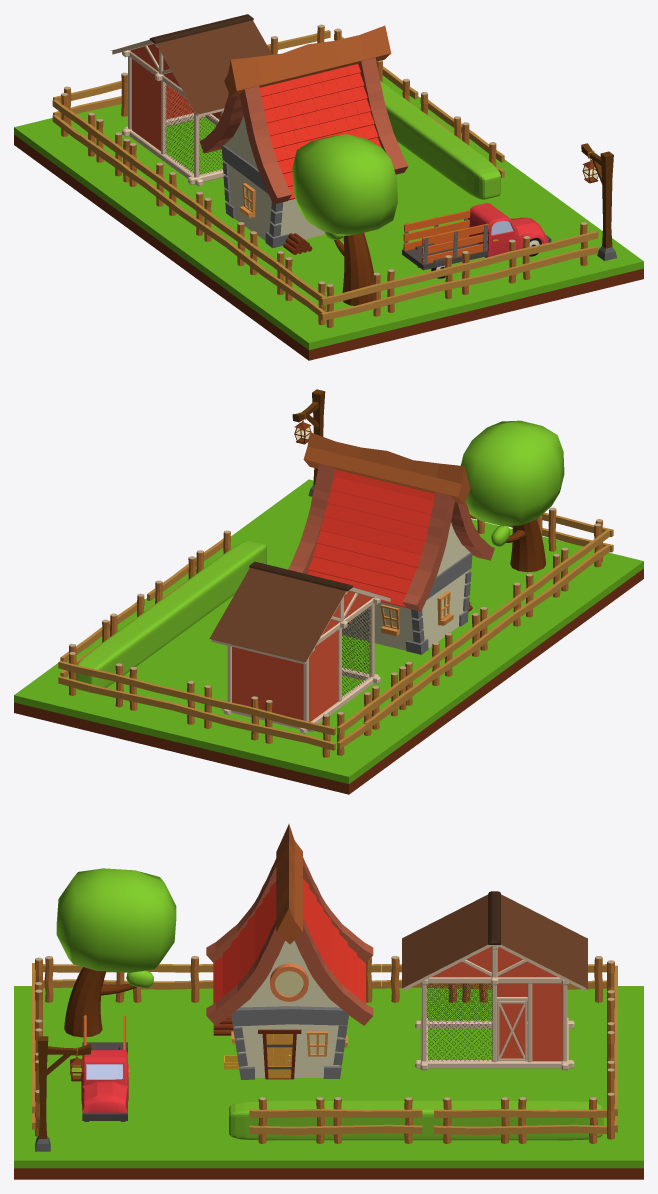
Rendered from ManowkHouse.fbx.
3 views of the same model, one above another, from view 1: azimuth 30°, elevation 25°; view 2: azimuth 150°, elevation 25°; view 3: azimuth 270°, elevation 25° (orthographic). The views are drawn at different scales.
Visible parts, largest first — view 1: Cube.005, Wall.Front, Leaves1, Bush, Cube.004, Base, fence002, Fence001, Truck, Cube.008, Cube.002, Fence004 (+17 smaller); view 2: Cube.005, Wall.Front, Leaves1, Bush, Base, Cube.004, fence006, Fence005, Cube.003, Fence004, Fence003, Fence004.002 (+17 smaller); view 3: Cube.005, Wall.Front, Leaves1, Base, Bush, Fence007, Fence007.002, Truck, Cube.004, Fence003, Cube, Cube.001 (+15 smaller).
Part boxes in pixels (x1,y1,x2,y2): Cube.005: (14,75,643,360); Wall.Front: (110,14,272,186); Leaves1: (292,134,397,235); Bush: (380,81,500,199); Cube.004: (224,25,391,97); Base: (221,115,324,248); fence002: (320,255,462,327); Fence001: (456,222,598,294); Truck: (402,203,551,270); Cube.008: (403,210,488,264); Cube.002: (239,86,291,204); Fence004: (160,172,244,265); Cube.005: (14,479,643,794); Wall.Front: (209,561,391,733); Leaves1: (461,420,564,526); Bush: (76,541,266,692); Base: (342,522,472,654); Cube.004: (303,432,470,504); fence006: (194,685,335,757); Fence005: (58,652,200,724); Cube.003: (402,492,454,611); Fence004: (445,582,528,676); Fence003: (526,523,609,617); Fence004.002: (337,661,420,755); Cube.005: (14,986,643,1179); Wall.Front: (402,891,587,1070); Leaves1: (56,868,176,972); Base: (231,940,348,1079); Bush: (229,1100,603,1140); Fence007: (249,1097,422,1143); Fence007.002: (434,1097,606,1143); Truck: (80,1042,129,1120); Cube.004: (276,823,302,944); Fence003: (43,956,208,1002); Cube: (294,918,373,1025); Cube.001: (206,919,285,1025).
Size of the model in its own units: 2127 by 1180 by 3242.
